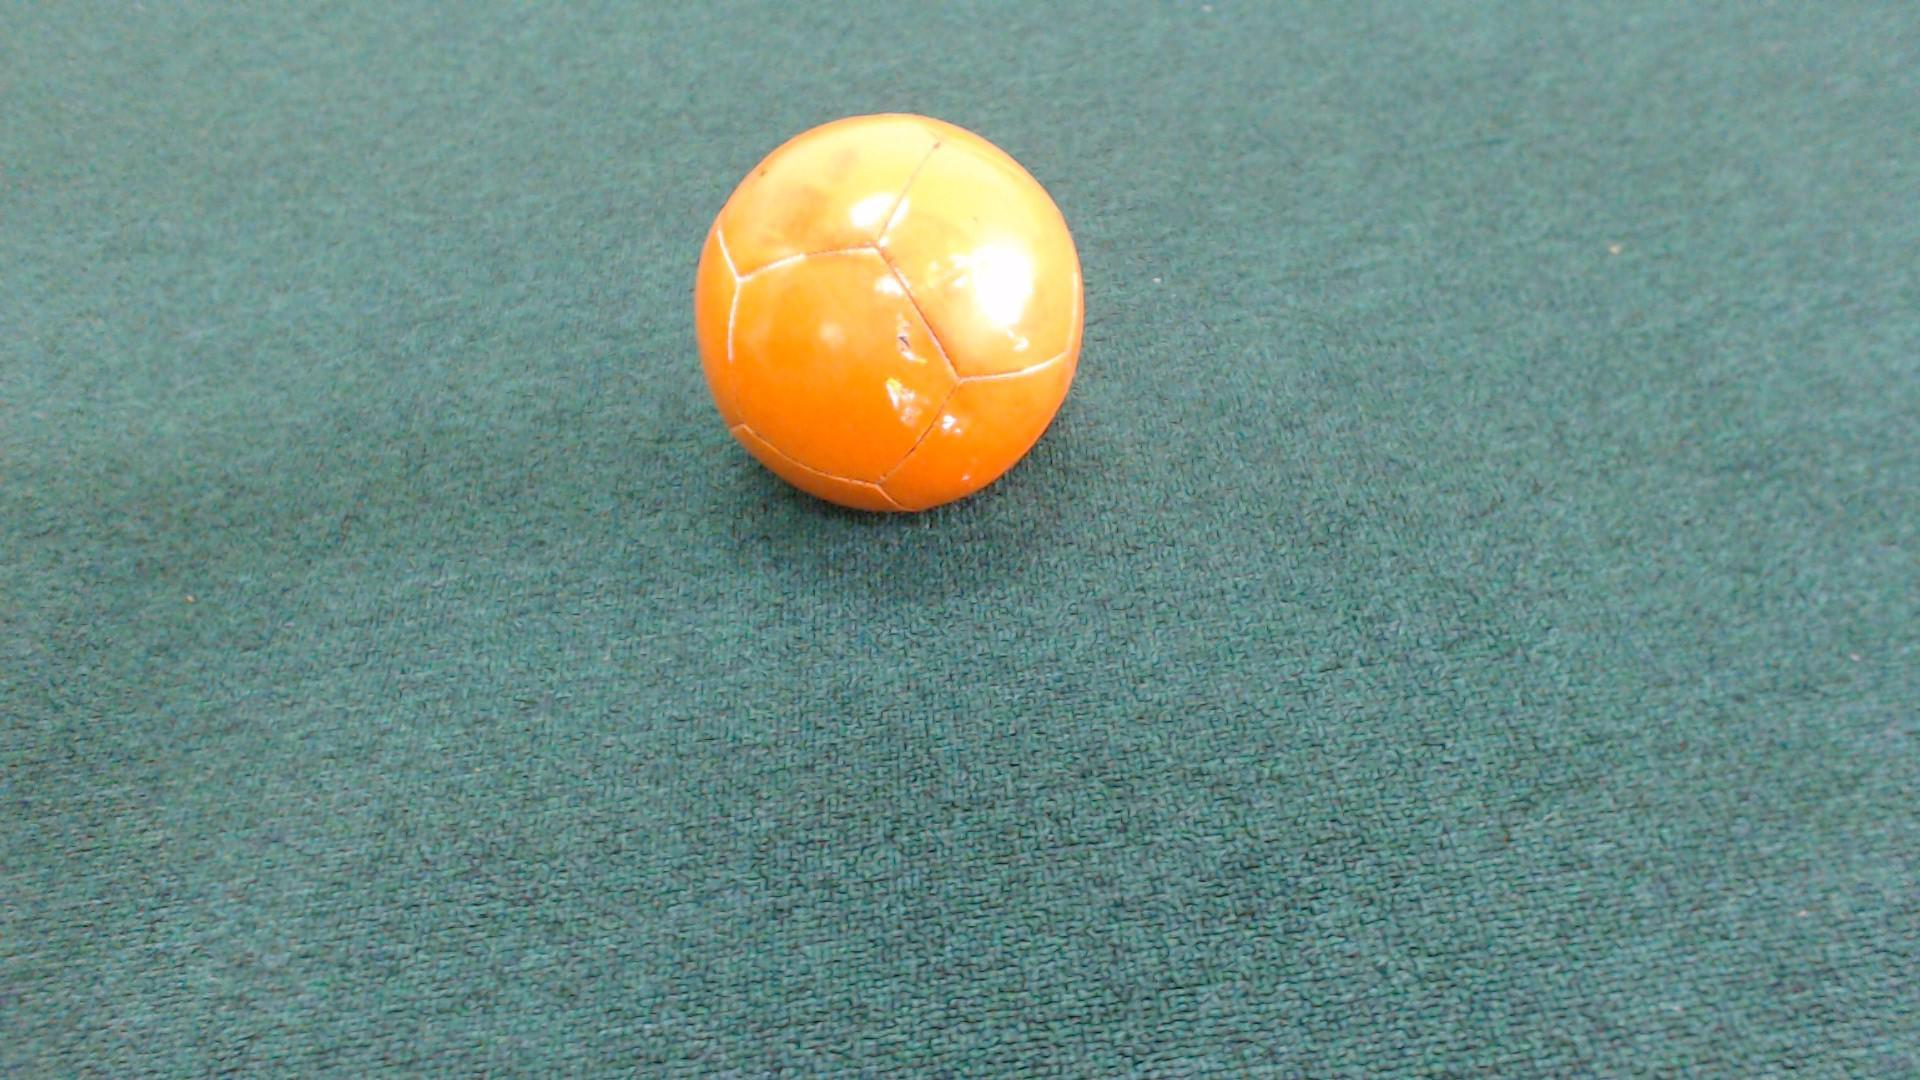bola: (674, 113, 1092, 521)
